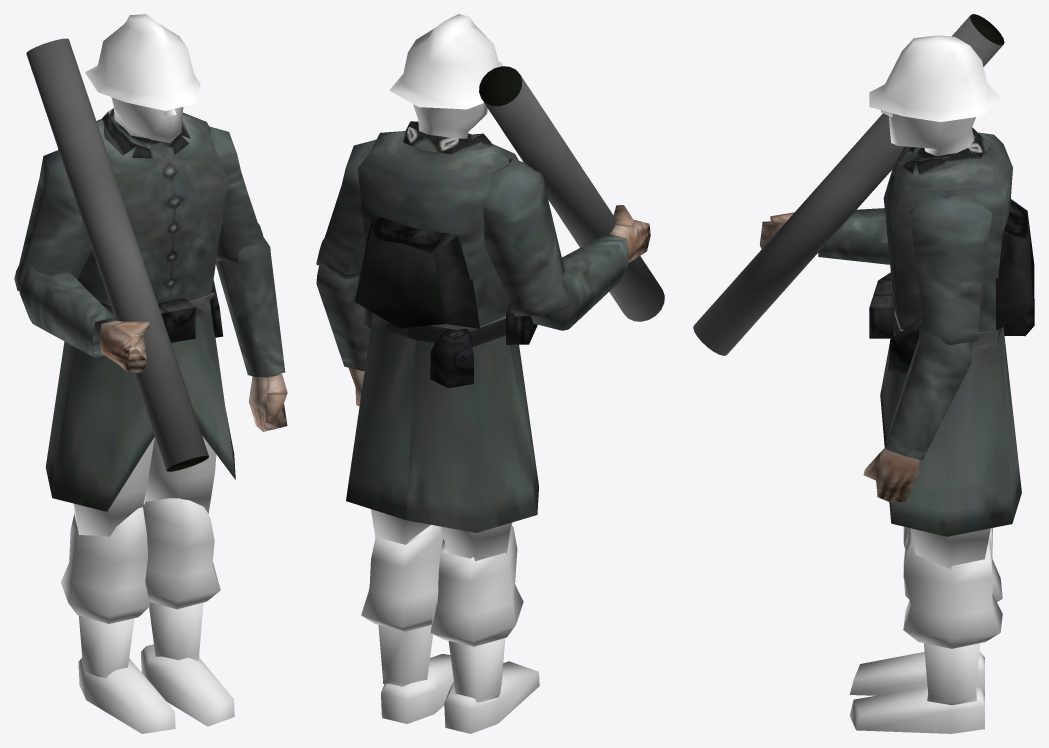
File: frinfmort.dae
3 renders of one model, left to right at view 1: azimuth 30°, elevation 25°; view 2: azimuth 150°, elevation 25°; view 3: azimuth 270°, elevation 25°, orthographic. The views are drawn at different scales.
Parts seen in each view (by area): view 1: torso, gun, rloleg, lloleg, head, lloarm, ruparm, rloarm, lfoot, rfoot, luparm, lupleg (+3 smaller); view 2: torso, gun, rloleg, ruparm, lloleg, head, rloarm, luparm, rfoot, lloarm, lfoot, rupleg (+2 smaller); view 3: torso, gun, lloleg, head, luparm, lloarm, lfoot, rloarm, rfoot, lupleg, lhand.
Boxes of the visible parts, left/top/right/bottom form: torso: left=45, top=108, right=235, bottom=511; gun: left=26, top=38, right=208, bottom=471; rloleg: left=61, top=507, right=149, bottom=678; lloleg: left=143, top=496, right=220, bottom=660; head: left=85, top=14, right=200, bottom=142; lloarm: left=216, top=236, right=285, bottom=377; ruparm: left=14, top=150, right=91, bottom=291; rloarm: left=19, top=265, right=115, bottom=357; lfoot: left=141, top=644, right=234, bottom=726; rfoot: left=78, top=658, right=175, bottom=733; luparm: left=209, top=126, right=264, bottom=262; lupleg: left=145, top=435, right=216, bottom=513; torso: left=346, top=121, right=538, bottom=532; gun: left=479, top=66, right=664, bottom=321; rloleg: left=430, top=526, right=523, bottom=702; ruparm: left=483, top=158, right=568, bottom=316; lloleg: left=361, top=525, right=443, bottom=686; head: left=389, top=14, right=502, bottom=138; rloarm: left=531, top=233, right=629, bottom=330; luparm: left=316, top=139, right=375, bottom=279; rfoot: left=444, top=661, right=539, bottom=733; lloarm: left=316, top=266, right=370, bottom=371; lfoot: left=381, top=654, right=453, bottom=723; rupleg: left=441, top=522, right=512, bottom=560; torso: left=869, top=127, right=1034, bottom=536; gun: left=693, top=14, right=1004, bottom=355; lloleg: left=903, top=528, right=1002, bottom=705; head: left=869, top=35, right=1001, bottom=156; luparm: left=909, top=194, right=991, bottom=344; lloarm: left=886, top=323, right=972, bottom=460; lfoot: left=849, top=686, right=984, bottom=733; rloarm: left=818, top=208, right=889, bottom=264; rfoot: left=849, top=651, right=984, bottom=695; lupleg: left=910, top=528, right=990, bottom=568; lhand: left=863, top=447, right=919, bottom=502.
Bounding box in the file's own units: 8.66 × 10.51 × 22.73.
Materials: 4 (1 with a texture image).
